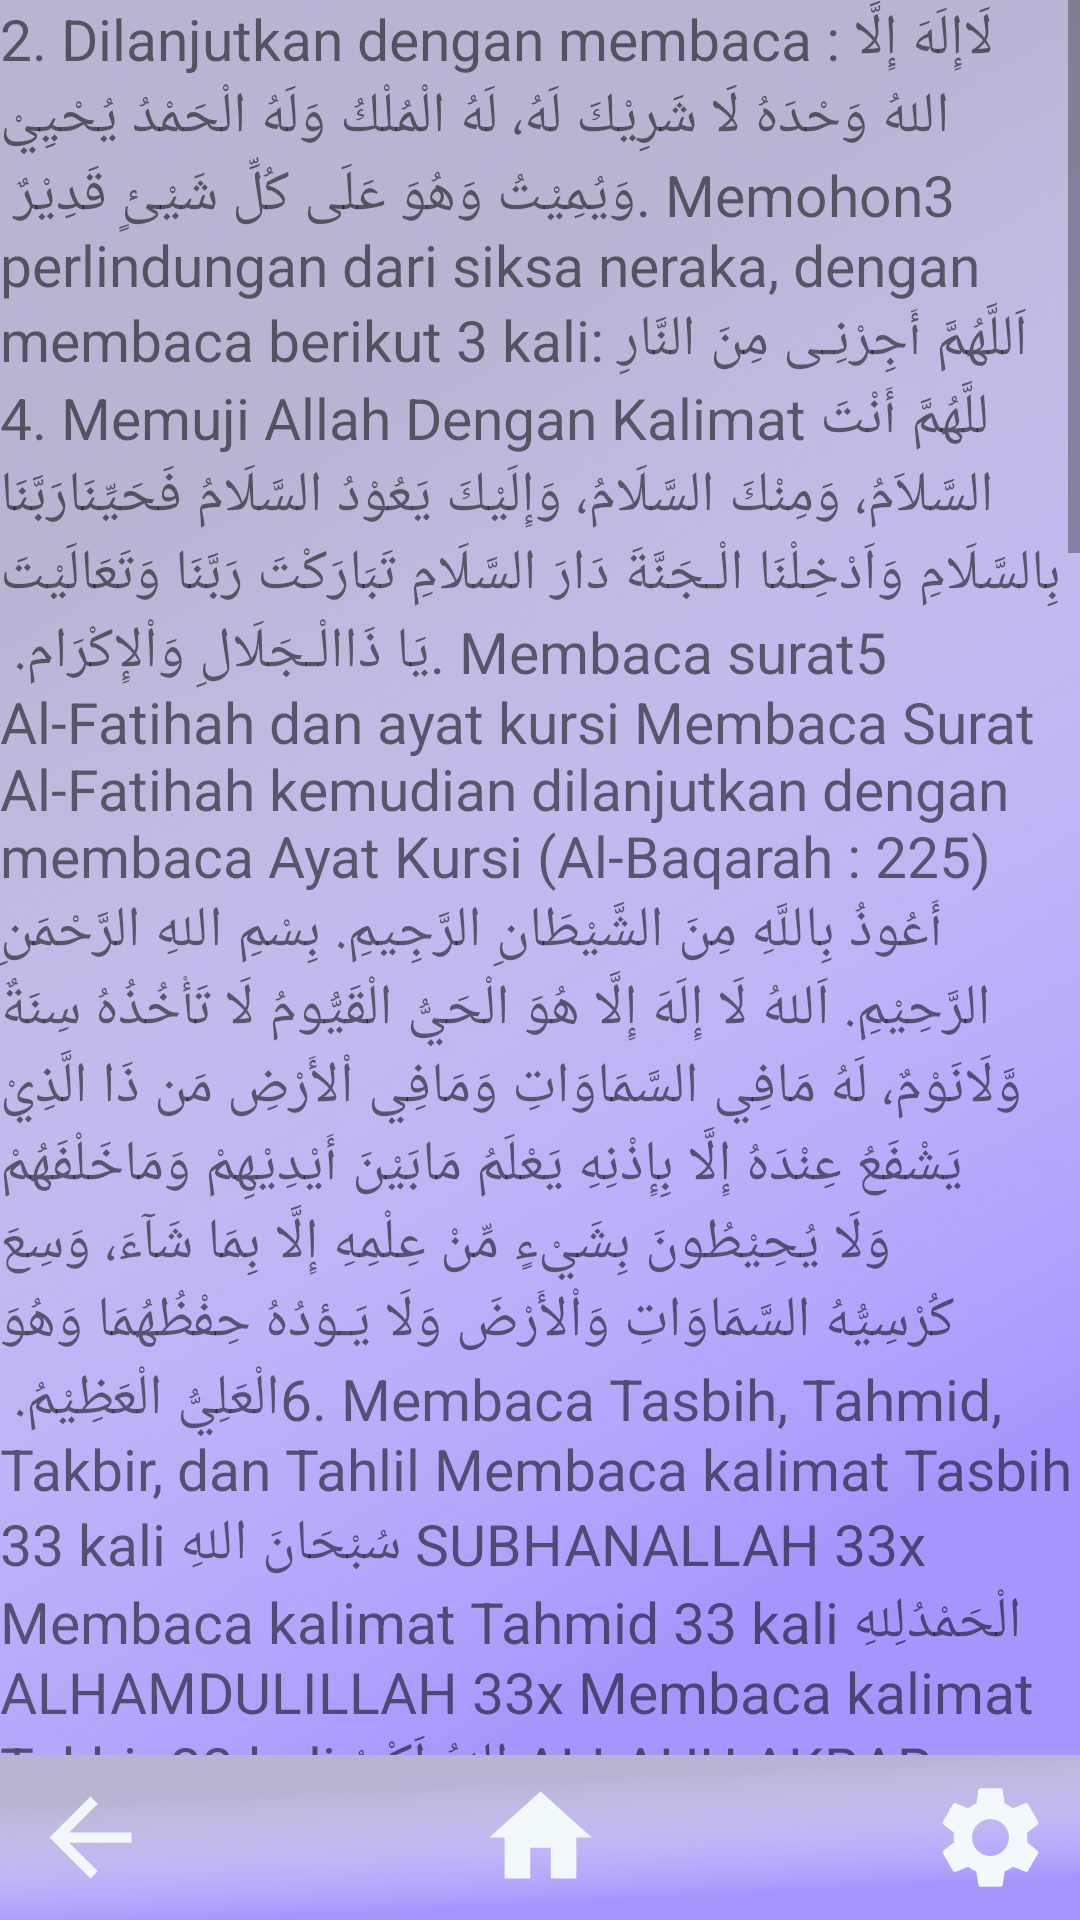

Screen size 1080×1920. Icon name, then its center in pixels as point (x, y):
arrow back: point (90, 1837)
home: point (540, 1837)
settings: point (990, 1837)
